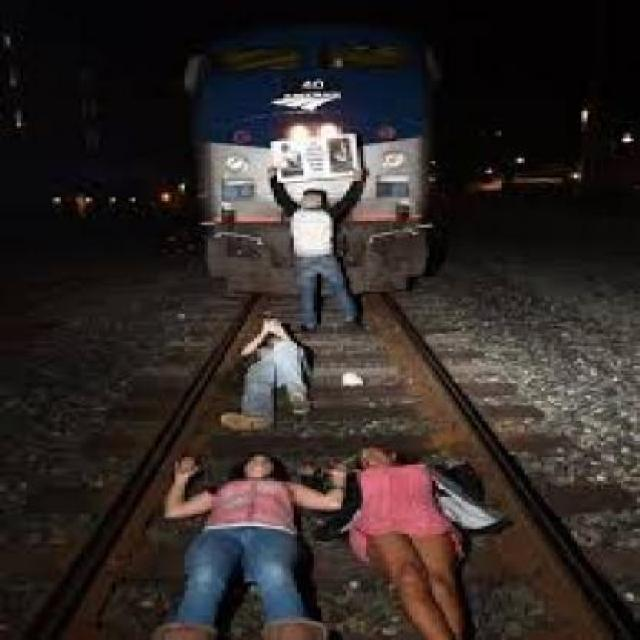danger: (139, 449, 327, 628), (323, 434, 488, 634), (220, 306, 322, 434), (293, 167, 361, 327)
rail: (11, 271, 640, 636)
